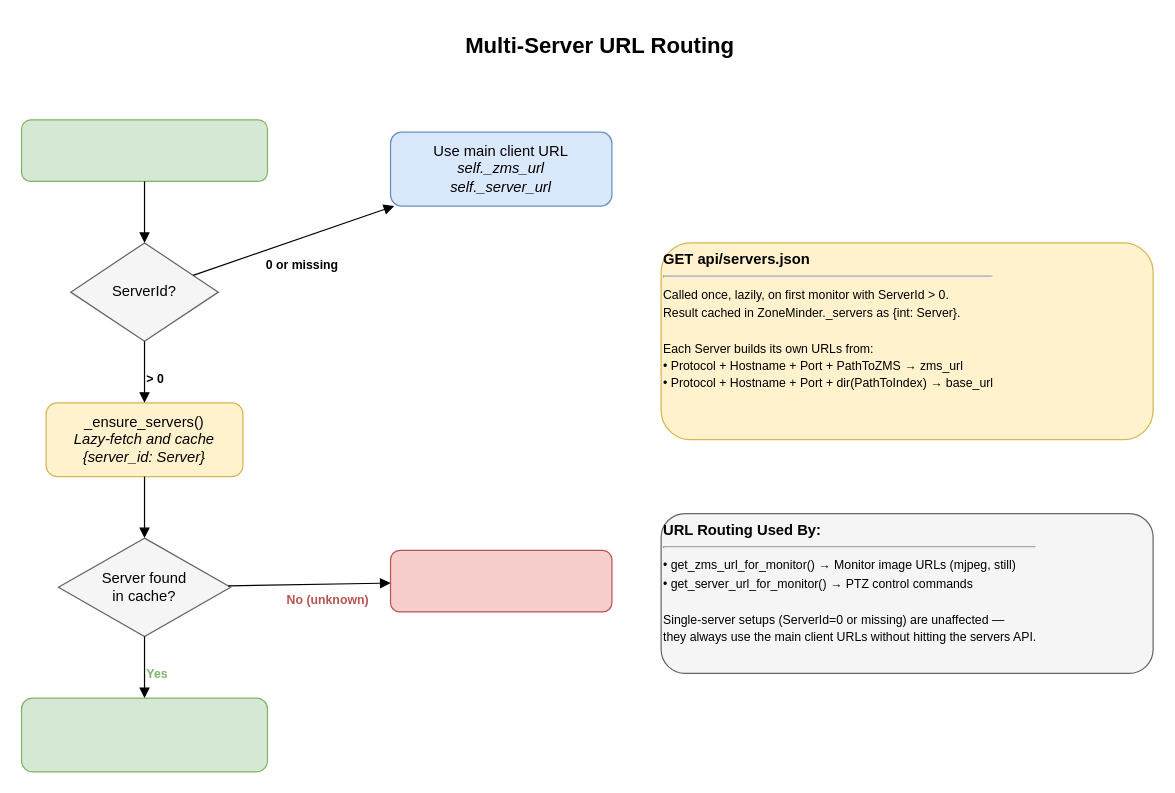
Some shapes in this 1175 by 793 pixel diagram are drawn without their labels. Each missing label, with the centre of its shape:
Log warning Fall back to main URL: the point at 500,580
Monitor raw_monitor["ServerId"]: the point at 144,150
Use server-specific URL server.zms_url server.base_url: the point at 144,734
